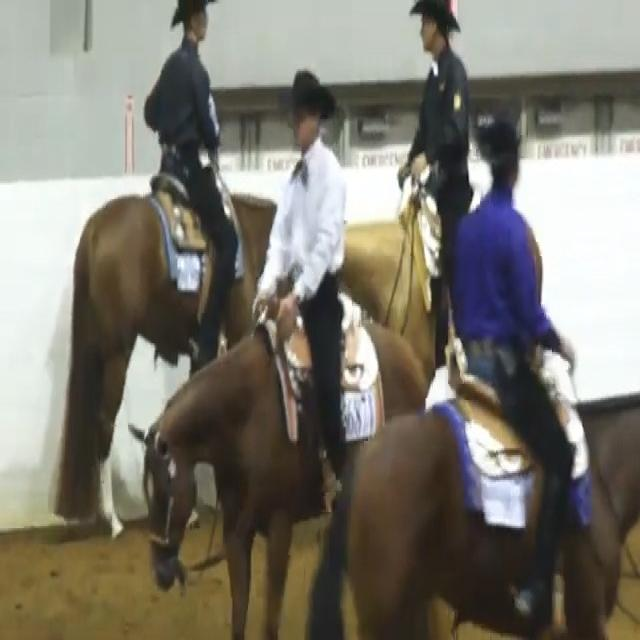horse: (137, 60, 439, 640)
